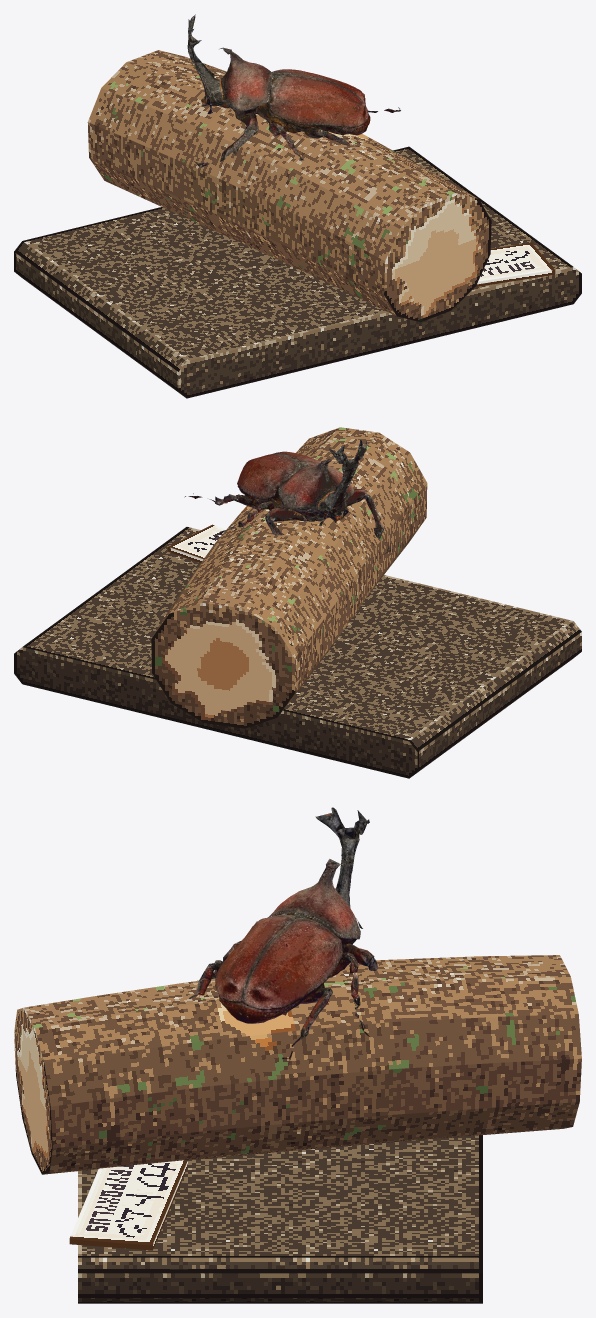
File: kabuto.glb
The picture shows the model from 3 angles, top to bottom: view 1: azimuth 30°, elevation 25°; view 2: azimuth 150°, elevation 25°; view 3: azimuth 270°, elevation 25°; orthographic projection. The views are drawn at different scales.
Parts seen in each view (by area): view 1: log, base, model_beetle, label; view 2: base, log, model_beetle, label; view 3: log, base, model_beetle, label.
Part boxes in pixels (x1,y1,x2,y2): log: (87,50,491,322); base: (14,146,581,398); model_beetle: (187,14,400,167); label: (475,242,555,286); base: (14,527,581,778); log: (151,427,427,728); model_beetle: (184,439,390,560); label: (168,524,225,563); log: (14,955,581,1174); base: (78,1135,482,1303); model_beetle: (189,807,377,1063); label: (69,1160,187,1250).
Size of the model in its own units: 34 by 21.63 by 33.65.
2 materials, 2 textured.
